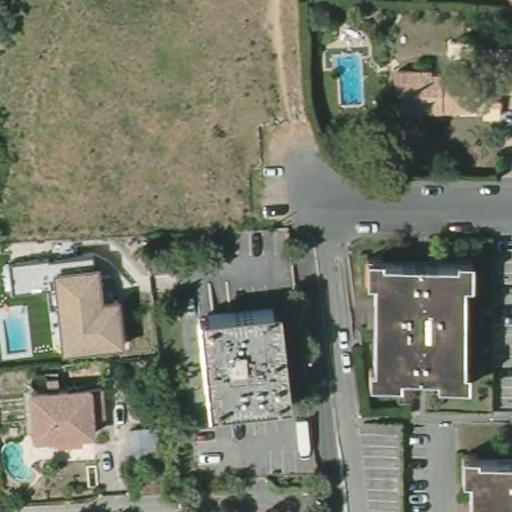pool: (334, 50, 370, 111), (3, 439, 39, 486), (4, 311, 32, 356)
